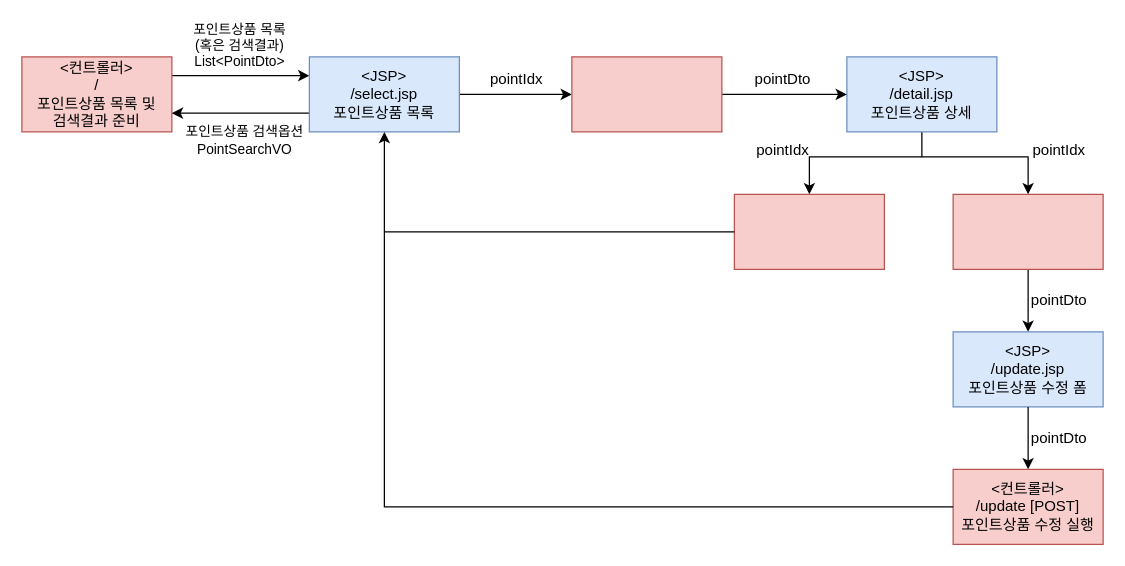
This 1125x566 diagram has some shape labels left out. Here are the shapes that lost their labels. From the top down, the centre of each, then its label:
pixel 646 94: <컨트롤러> /detail 포인트상품 상세 준비
pixel 808 231: <컨트롤러> /delete
pixel 1027 231: <컨트롤러> /update [GET] 포인트상품 수정 준비
